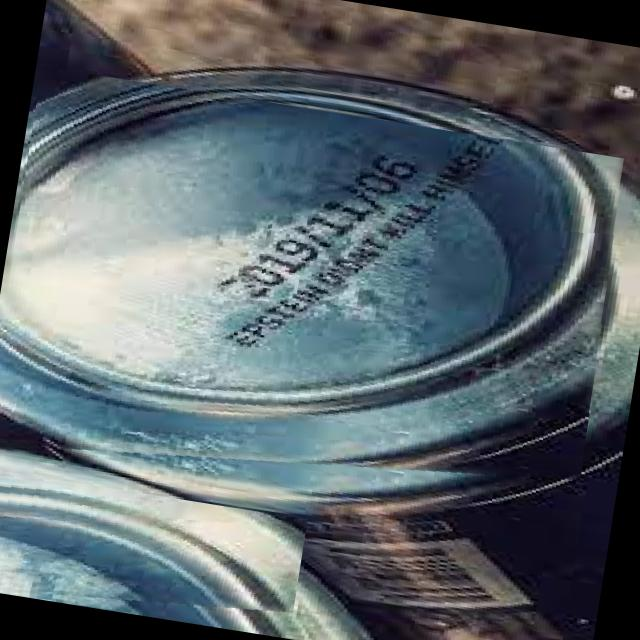Cans: (0, 65, 631, 536), (0, 465, 308, 639)
